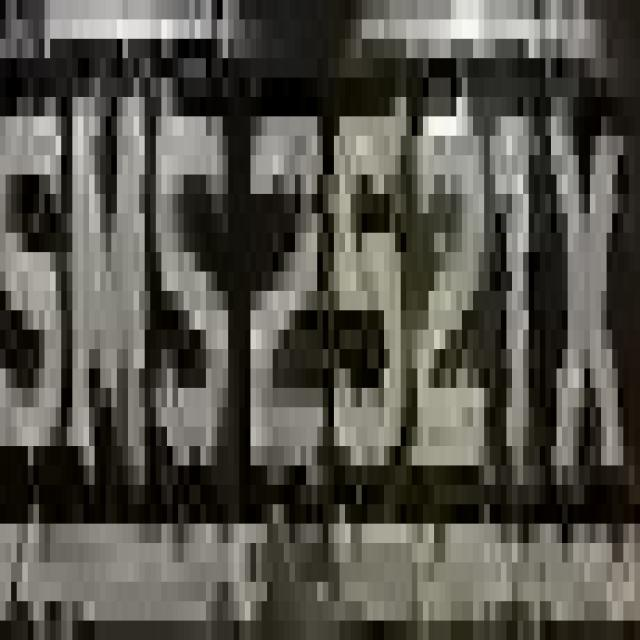1: (490, 20, 540, 562)
2: (222, 58, 322, 485), (395, 78, 479, 524)
5: (312, 39, 401, 543)
M: (62, 19, 162, 485)
S: (150, 58, 234, 524), (0, 58, 78, 504)
X: (534, 78, 618, 582)
